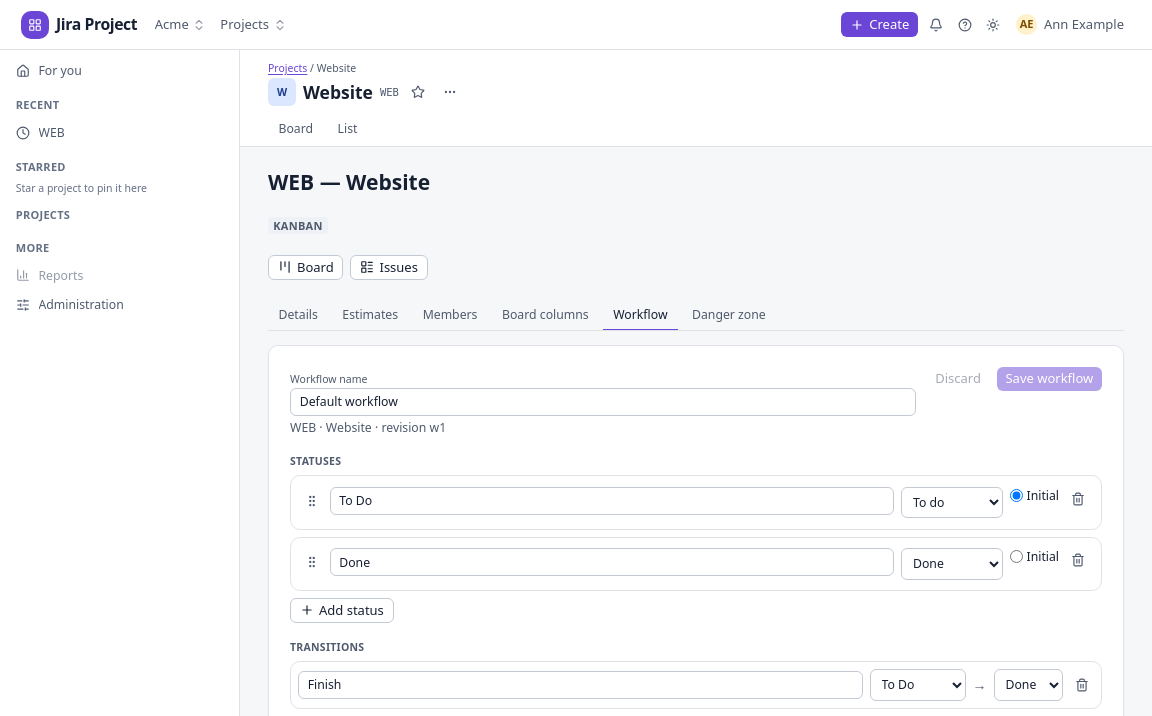
it: Project workflow editor › keeps Save disabled until the draft changes, then after discard and successful save
Expected: the button "Save workflow" is disabled, [997,366,1102,391]
Step 1. Replace the text in the field labelled "Workflow name" with "Edited" → (603, 402), box [290,388,916,416]
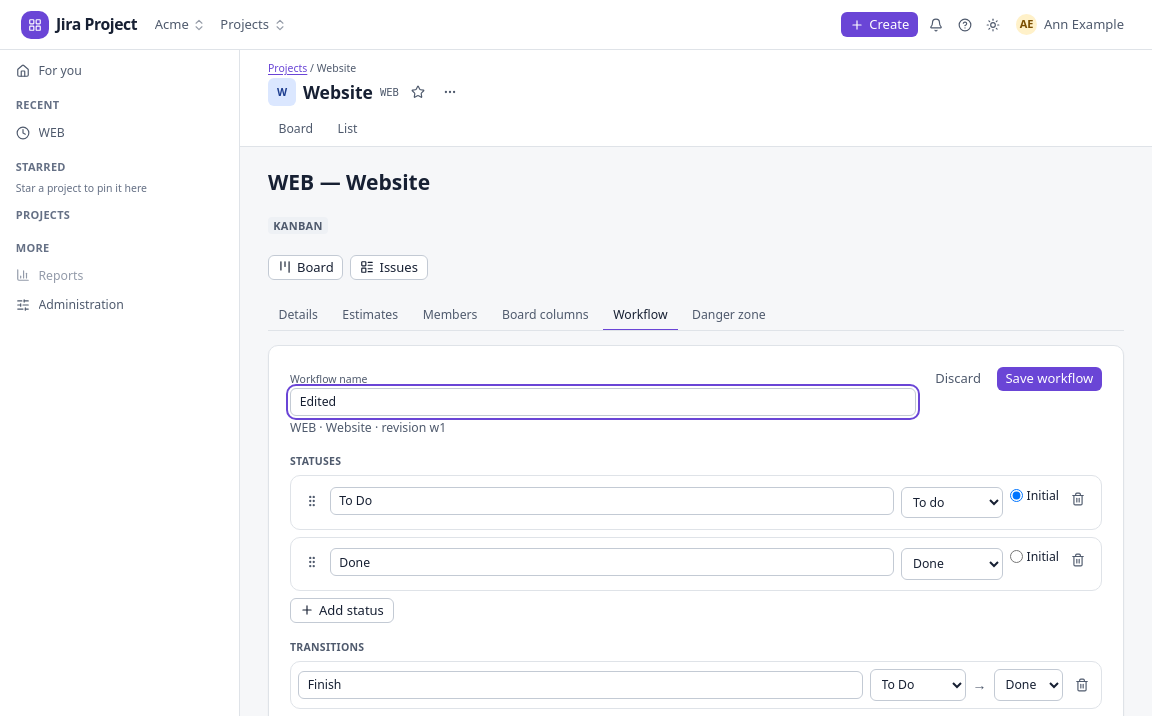
Now the button "Save workflow" is enabled, box [997,366,1102,391]
Step 2. Click the button "Discard" → (958, 379), box [926,366,990,391]
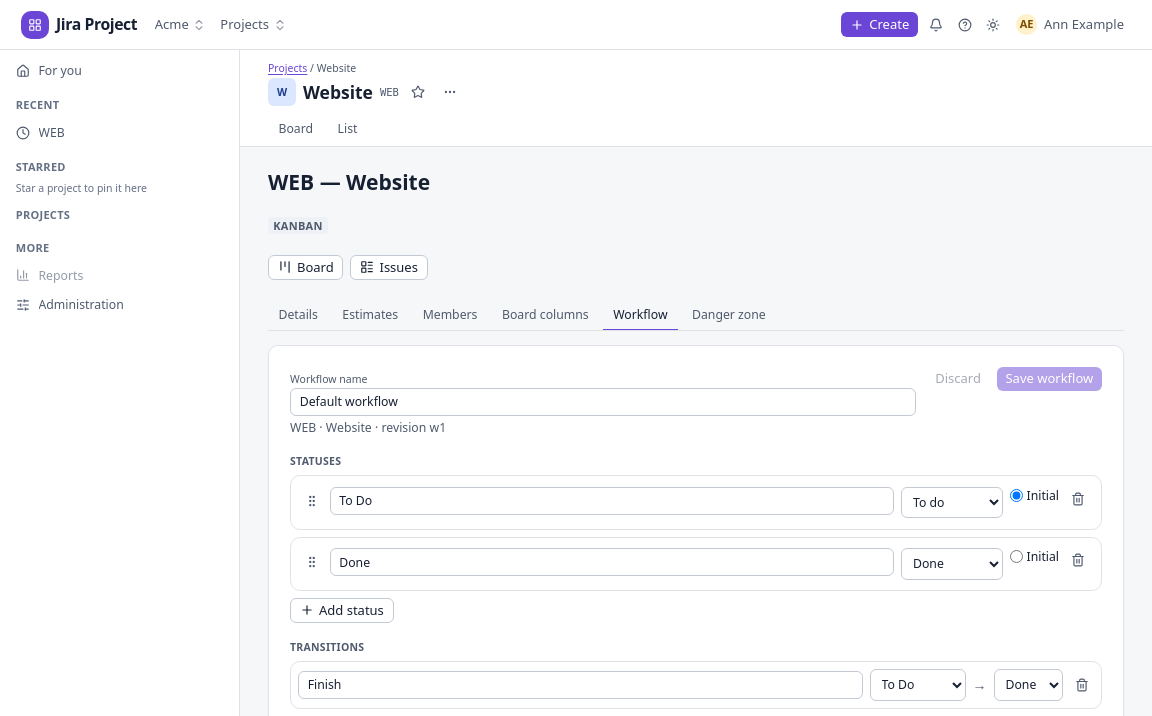
Now the field labelled "Workflow name" holds "Default workflow"
Now the button "Save workflow" is disabled, box [997,366,1102,391]
Step 3. Replace the text in the field labelled "Workflow name" with "Saved name" → (603, 402), box [290,388,916,416]
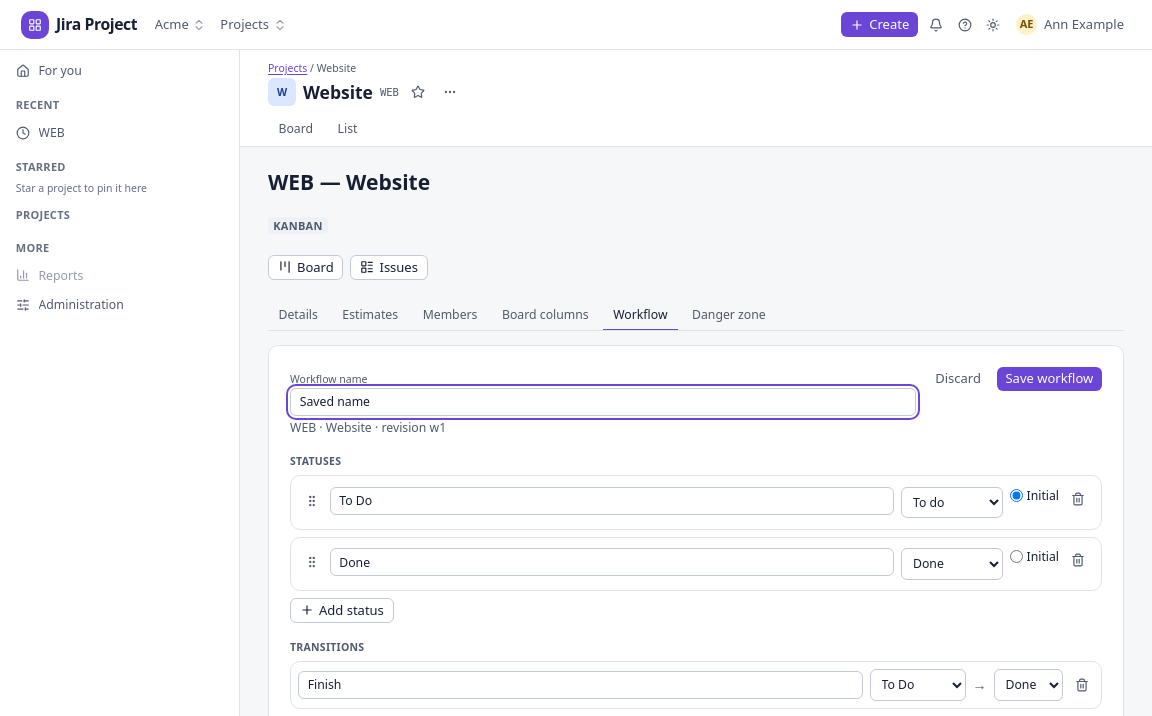
Step 4. Click the button "Save workflow" → (1049, 379), box [997,366,1102,391]
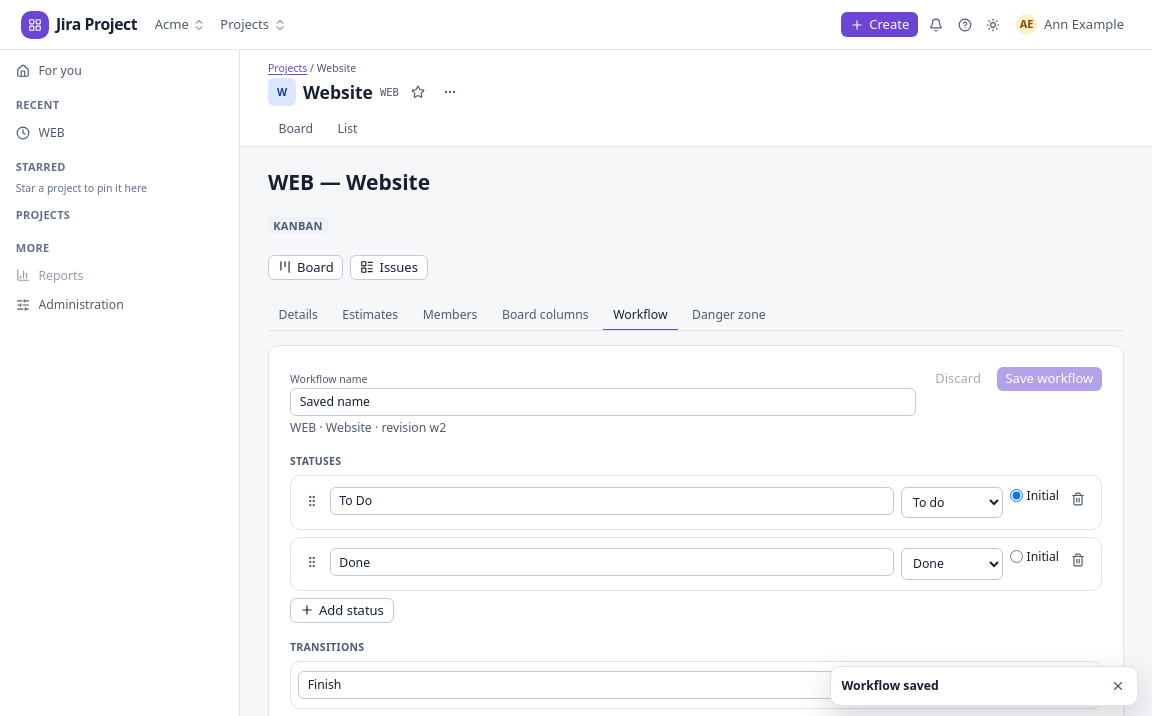
Now the text "Workflow saved" is shown, box [842,677,939,694]
Now the button "Save workflow" is disabled, box [997,366,1102,391]
